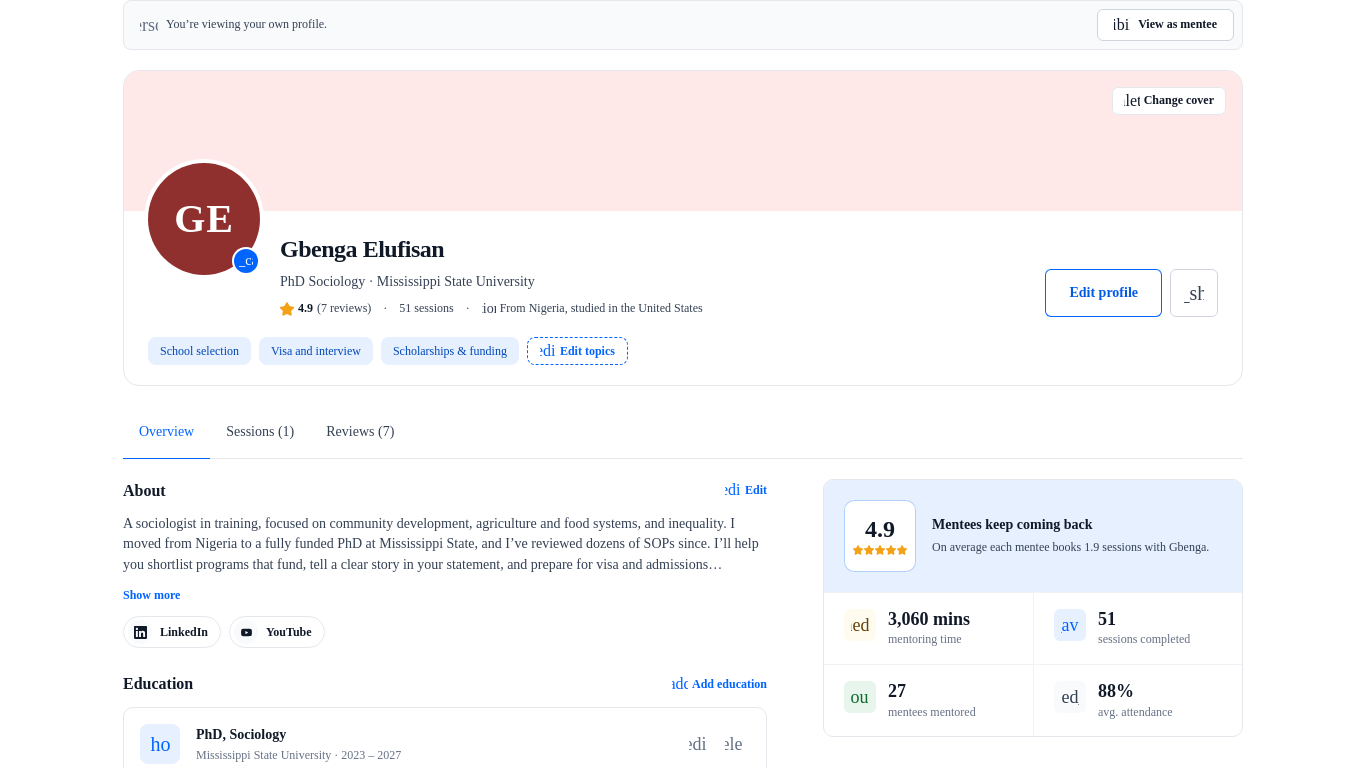
Test case: MentorProfileScreen — Profile strength › a similar mentor’s time is drawn as Book, off (review of PR 4)
The image size is (1366, 768).
Click the button "visibility View as mentee": [1166, 25] box 1097,9 -> 1234,41
(page scrolled)
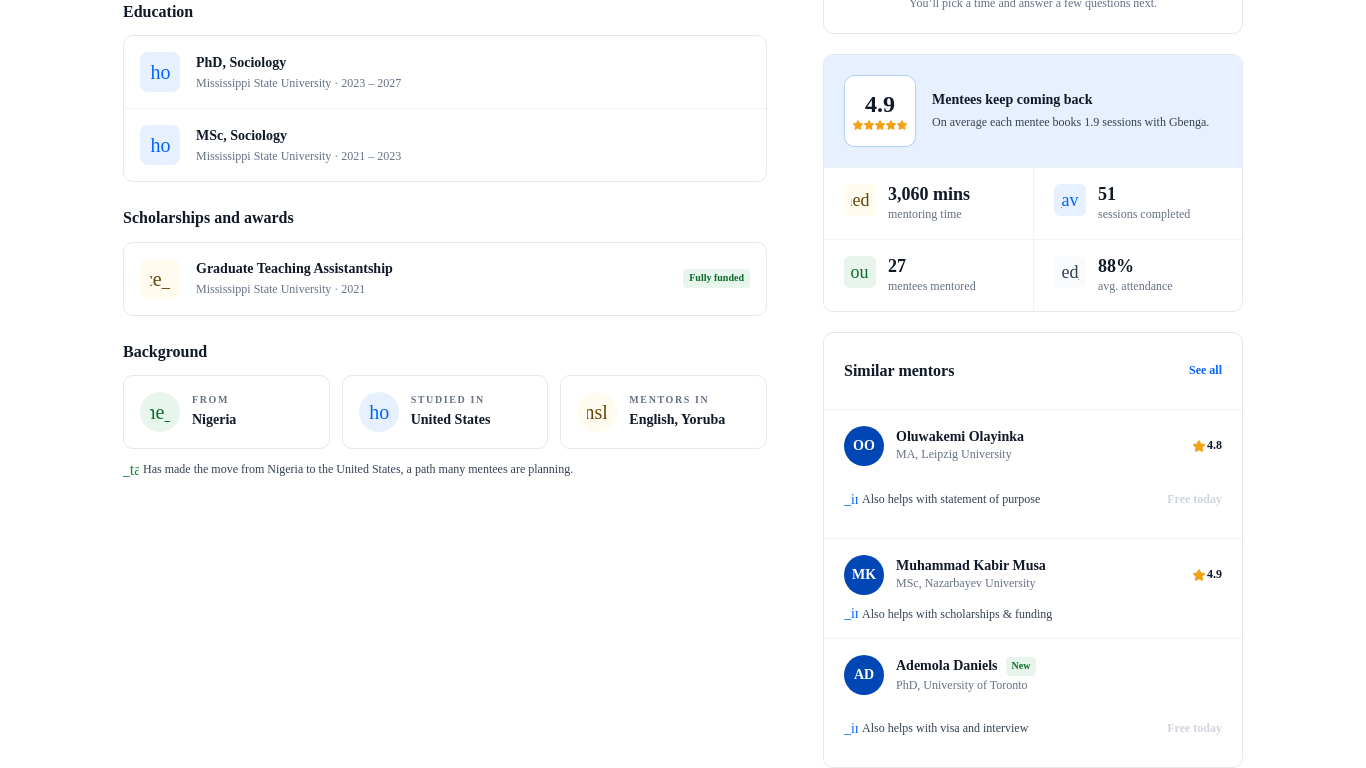
Now the button with aria-label "Book Oluwakemi Olayinka" is disabled, box 1167,478 -> 1222,522
